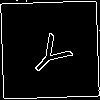Y: (25, 25, 81, 82)
